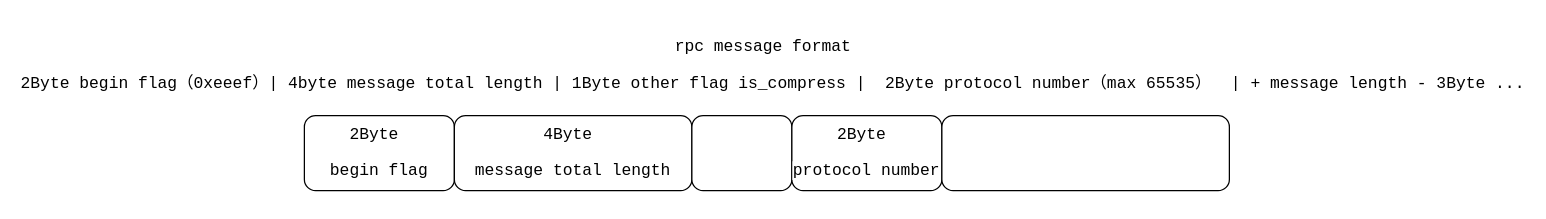
The diagram is 1546 pixels wide and 219 high, and some of its shapes have lost their labels. Each missing label, with the box of its shape:
1Byte other flag: (691, 114, 792, 191)
message length - 3Byte real message: (941, 114, 1229, 191)
